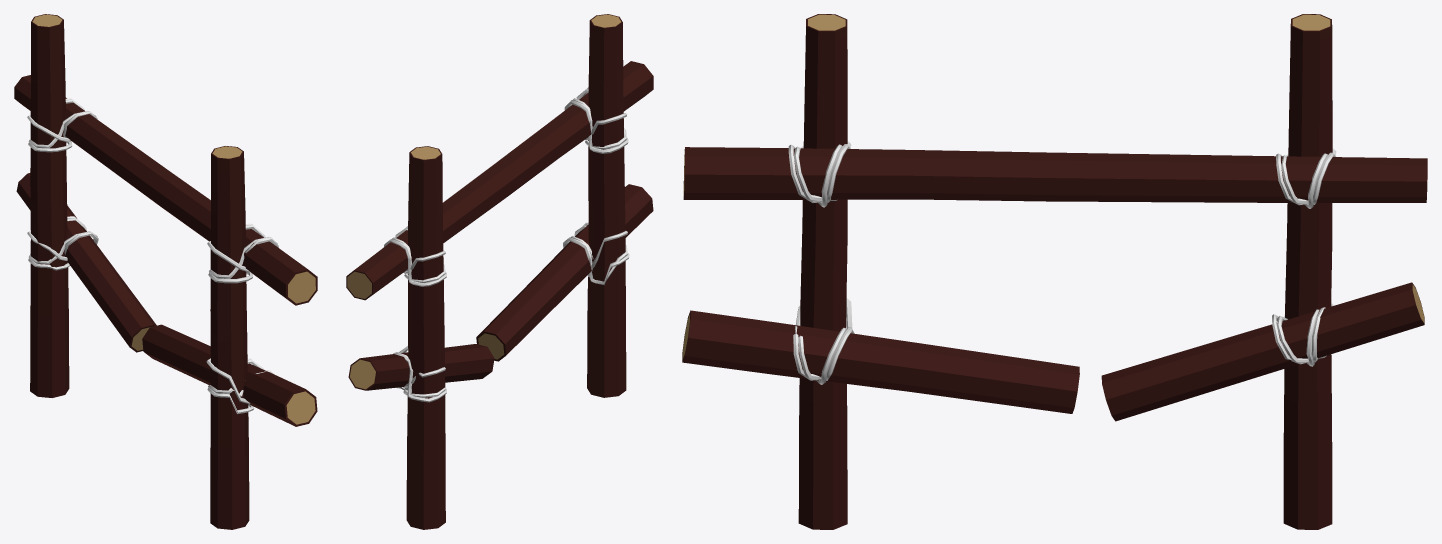
File: SM_Fence_004.fbx
3 views of the same model, side by side, from view 1: azimuth 30°, elevation 25°; view 2: azimuth 150°, elevation 25°; view 3: azimuth 270°, elevation 25° (orthographic). The views are drawn at different scales.
Parts seen in each view (by area): view 1: Fence; view 2: Fence; view 3: Fence.
Part boxes in pixels (x1,y1,x2,y2): Fence: (14,14,317,529); Fence: (346,14,653,529); Fence: (682,14,1427,529).
Size of what is drawn, in the model's own units: 23.6 by 140 by 190.
